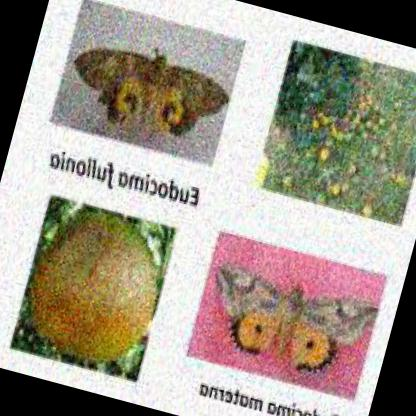fruit sucking moth: (213, 266, 378, 371), (73, 47, 228, 139)
